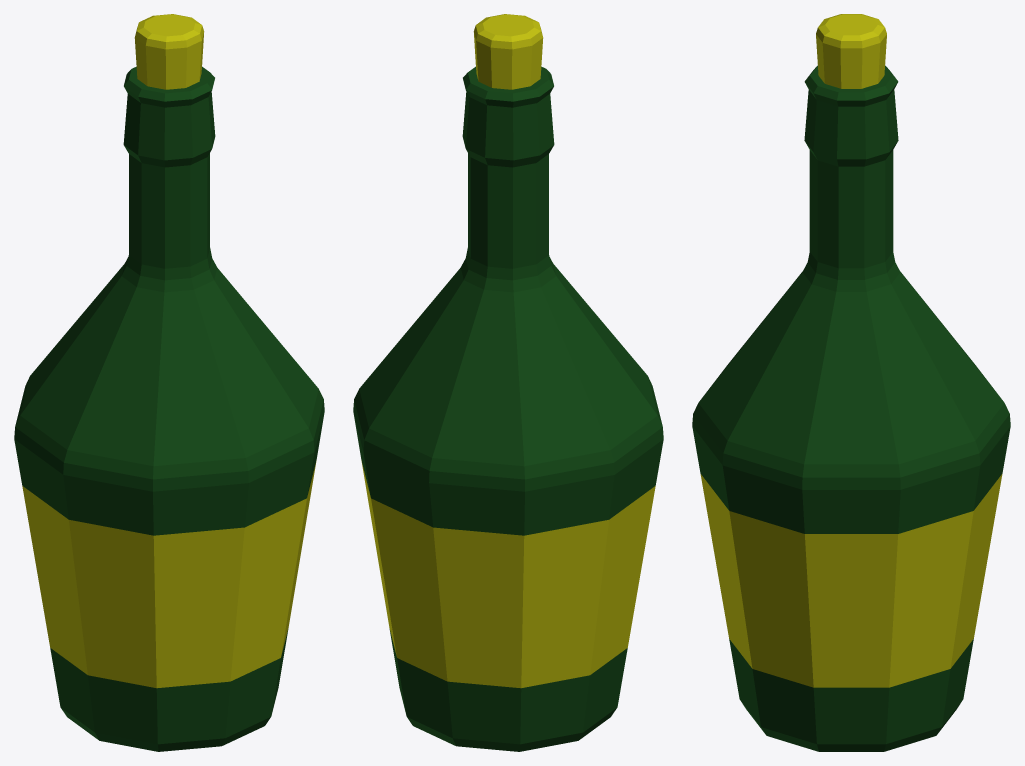
Rendered from simple bottle.fbx.
3 renders of one model, left to right at view 1: azimuth 30°, elevation 25°; view 2: azimuth 150°, elevation 25°; view 3: azimuth 270°, elevation 25°, orthographic.
Parts seen in each view (by area): view 1: Cylinder; view 2: Cylinder; view 3: Cylinder.
Part boxes in pixels (left/top/right/bottom): Cylinder: left=14, top=14, right=324, bottom=751; Cylinder: left=353, top=14, right=663, bottom=751; Cylinder: left=692, top=14, right=1010, bottom=751.
Size of the model in its own units: 225 by 566 by 237.
